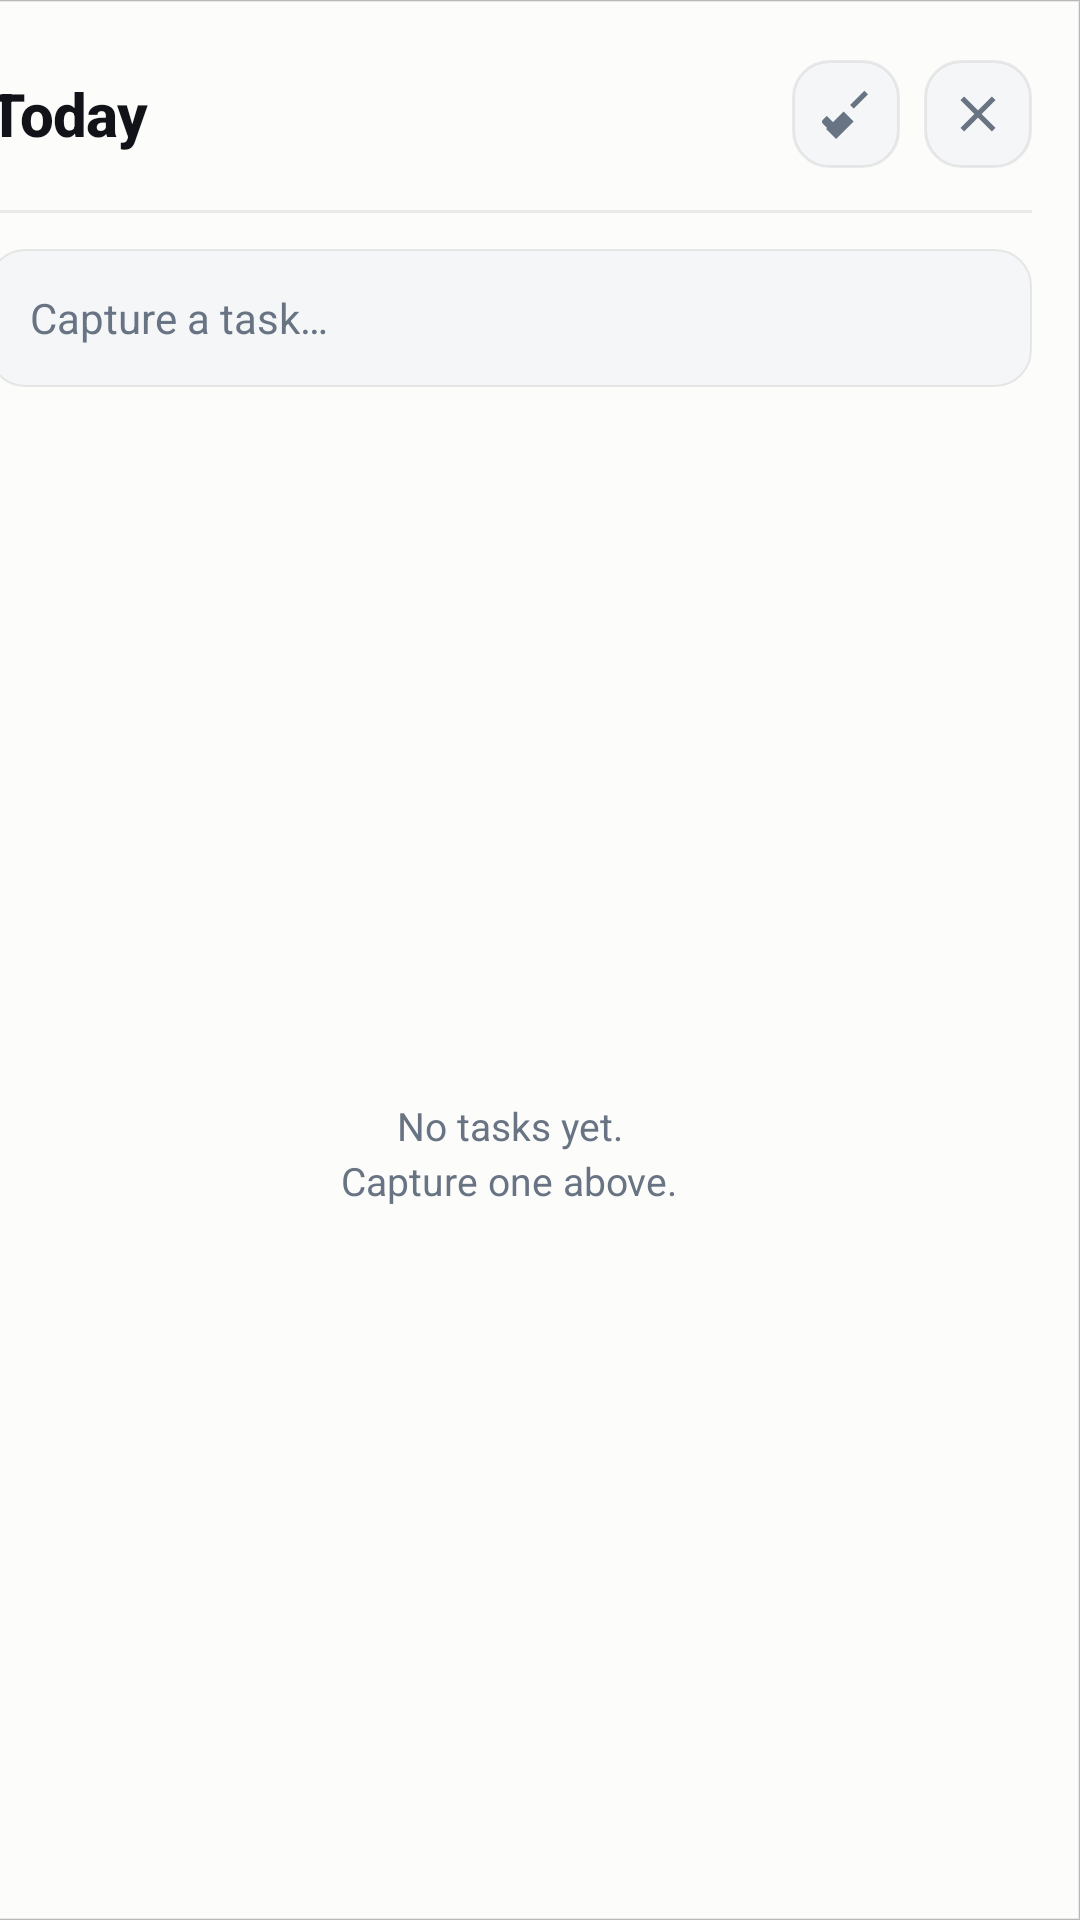

Icons on this 1080w x 1920h Android screen, each with the point to tap as (x=x, y=y):
Clear completed: (x=846, y=114)
Close: (x=978, y=114)
